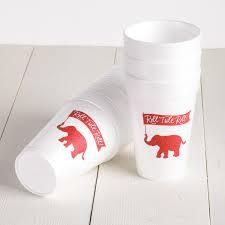Plastic cup: (5, 12, 208, 211)
